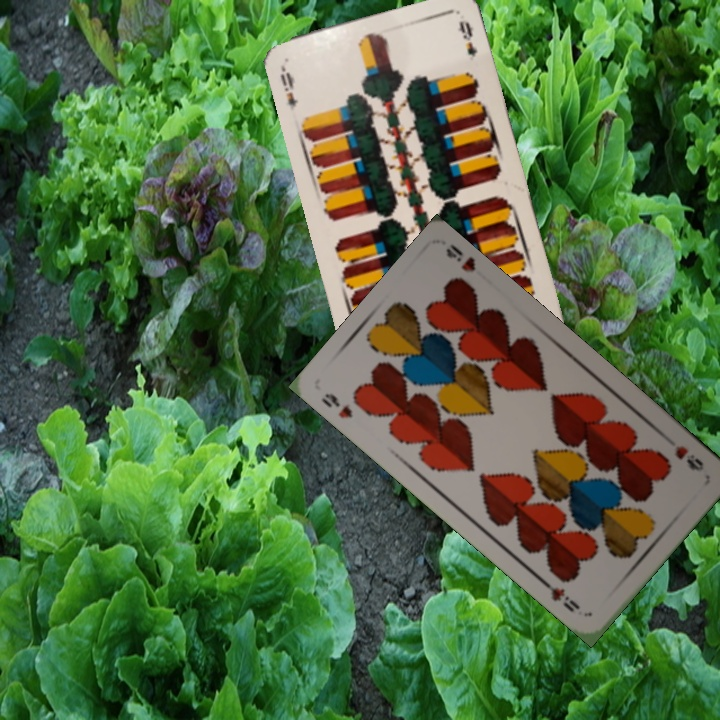E9: (276, 61, 301, 113)
H9: (317, 388, 355, 421), (671, 441, 707, 474)
